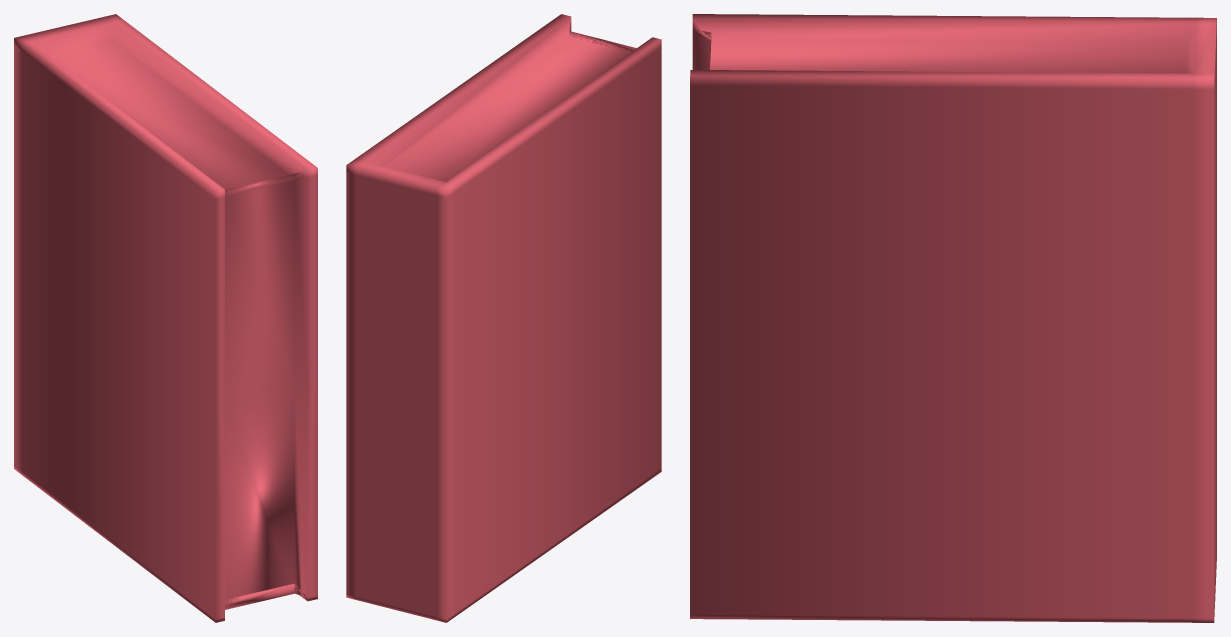
Rendered from Book_1.fbx.
The picture shows the model from 3 angles, left to right: view 1: azimuth 30°, elevation 25°; view 2: azimuth 150°, elevation 25°; view 3: azimuth 270°, elevation 25°; orthographic projection. The views are drawn at different scales.
Visible parts, largest first — view 1: Book_1; view 2: Book_1; view 3: Book_1.
Boxes of the visible parts, <box> form: Book_1: <box>14,14,317,622</box>; Book_1: <box>346,14,661,622</box>; Book_1: <box>690,14,1216,622</box>.
Bounding box in the file's own units: 10.56 × 40.5 × 35.6.
